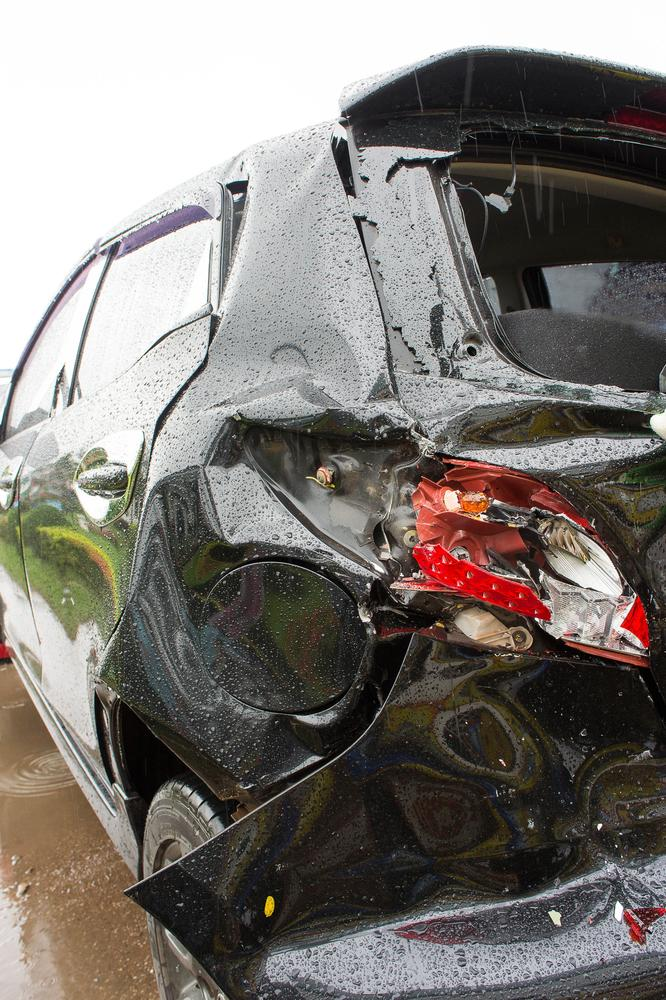dent: (264, 672, 666, 991), (184, 324, 425, 572), (441, 399, 663, 470), (261, 716, 325, 779)
lamp broken: (379, 450, 652, 662)
